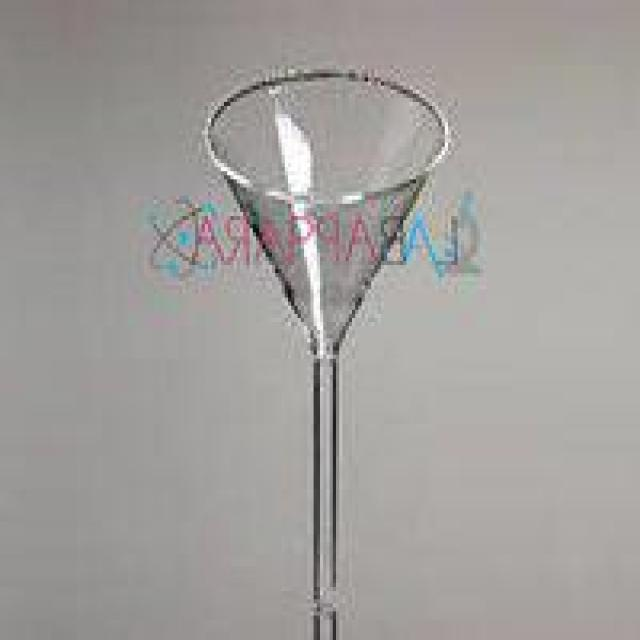glass: (197, 61, 456, 640)
